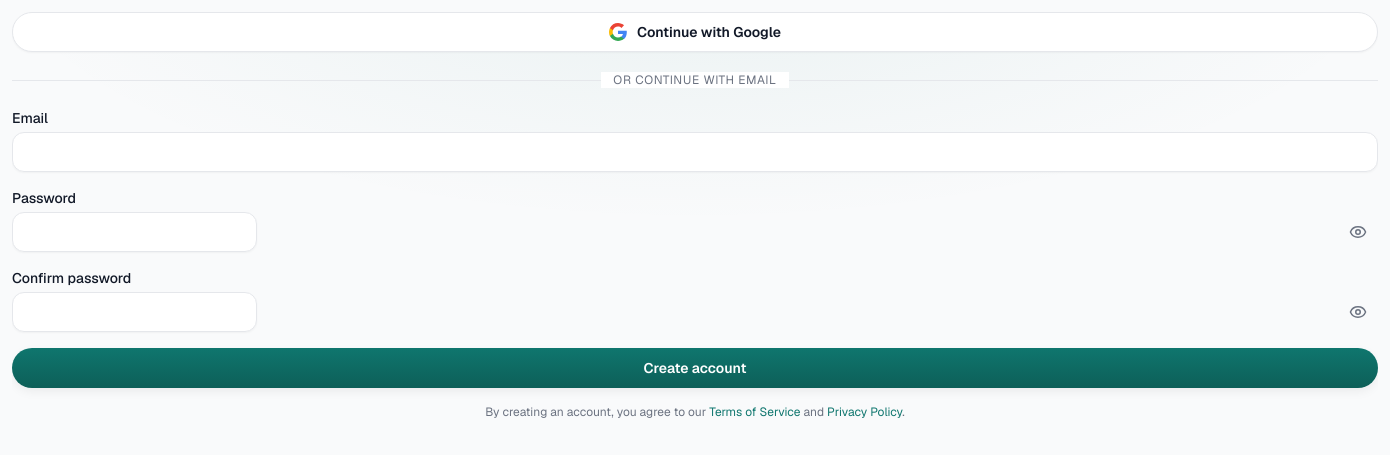
Scenario: SignupForm › rejects a password under 8 characters
The image size is (1390, 455).
Type "short" into the password field labelled "Password" at coordinates (134, 232), box top-left (12, 212), bottom-right (257, 252)
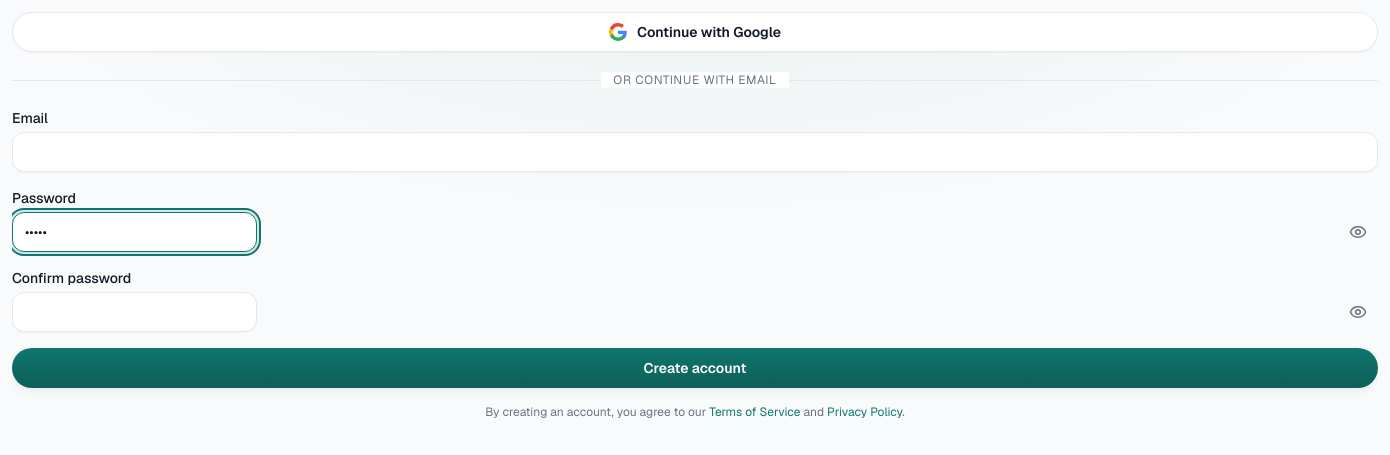
Press Tab
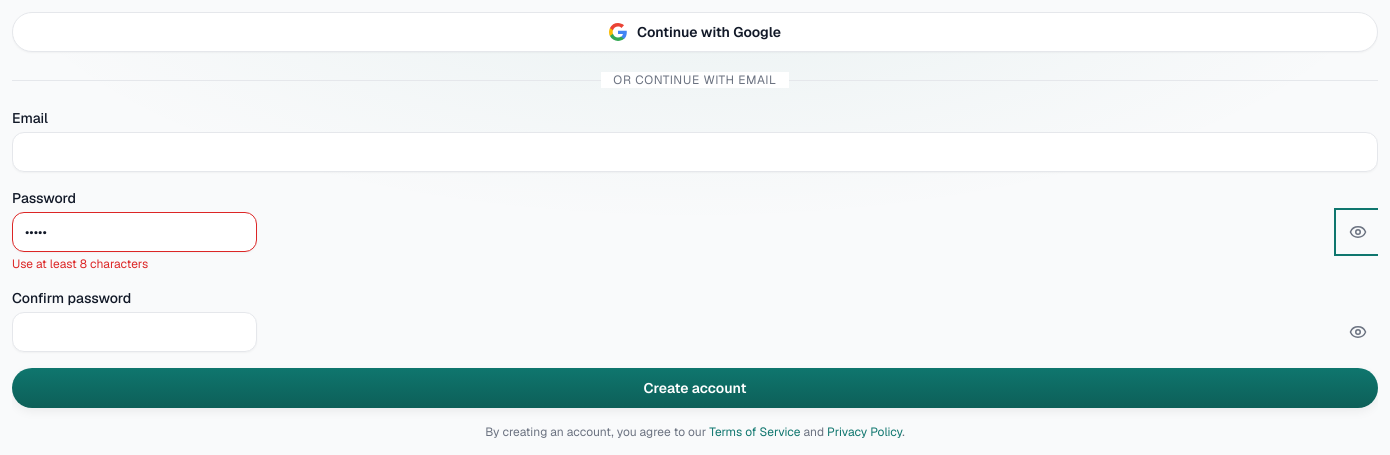
Expected: the text "Use at least 8 characters" is shown, top-left (12, 256), bottom-right (148, 272)
